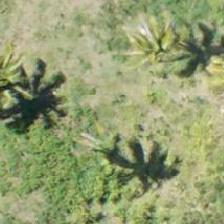coconut_tree: (61, 117, 151, 207), (113, 4, 203, 94)
